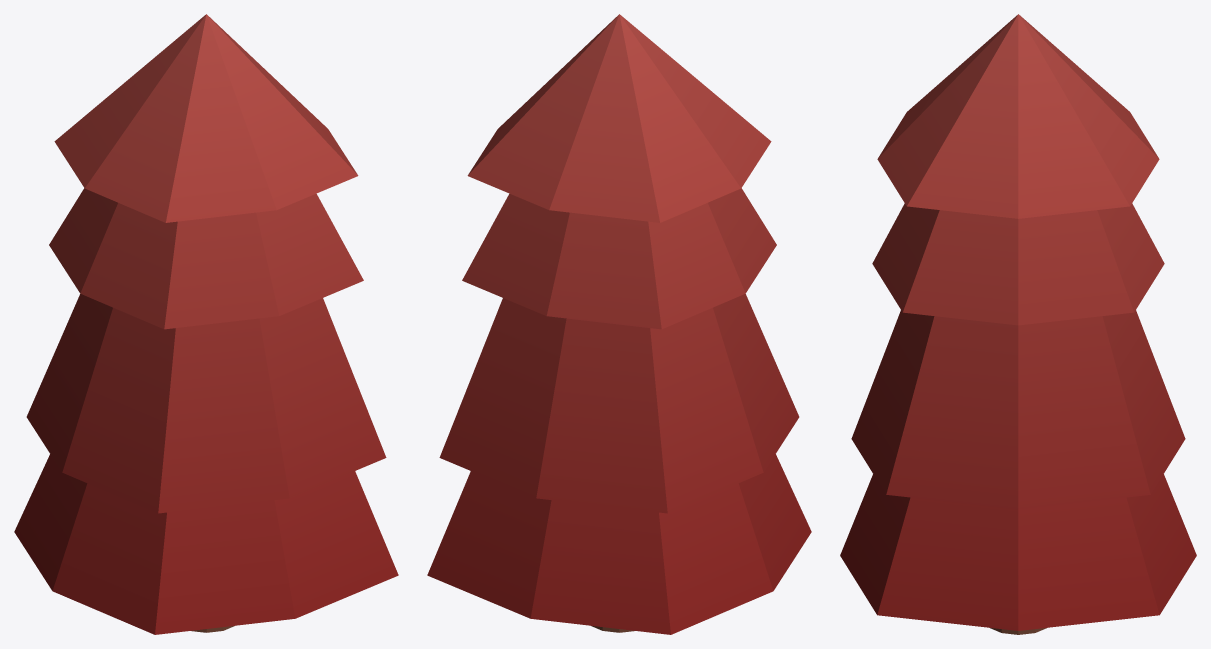
The model's file is Tree_22_gradient_red_vc.fbx.
3 views of the same model, side by side, from view 1: azimuth 30°, elevation 25°; view 2: azimuth 150°, elevation 25°; view 3: azimuth 270°, elevation 25° (orthographic).
Visible parts, largest first — view 1: Tree_22_gradient_red_vc; view 2: Tree_22_gradient_red_vc; view 3: Tree_22_gradient_red_vc.
Part boxes in pixels (box(x1,y1,x2,y2)): Tree_22_gradient_red_vc: box(14, 14, 398, 634); Tree_22_gradient_red_vc: box(427, 14, 811, 634); Tree_22_gradient_red_vc: box(840, 14, 1196, 634).
Size of the model in its own units: 82.75 by 155 by 82.75.
